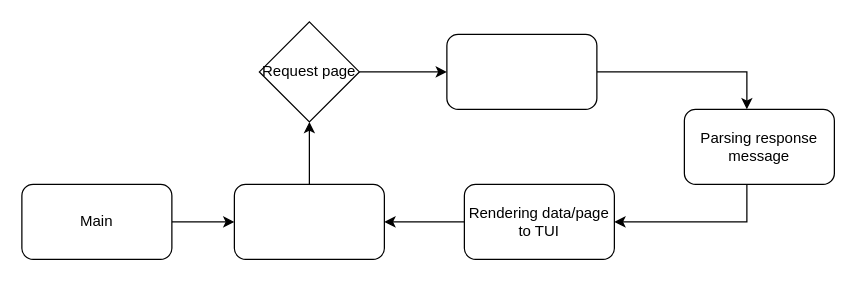
This 856x281 diagram has some shape labels left out. Each missing label, with the box of its shape:
Brick TUI: (233, 183, 384, 259)
Network: TCP socket: (446, 33, 597, 109)
